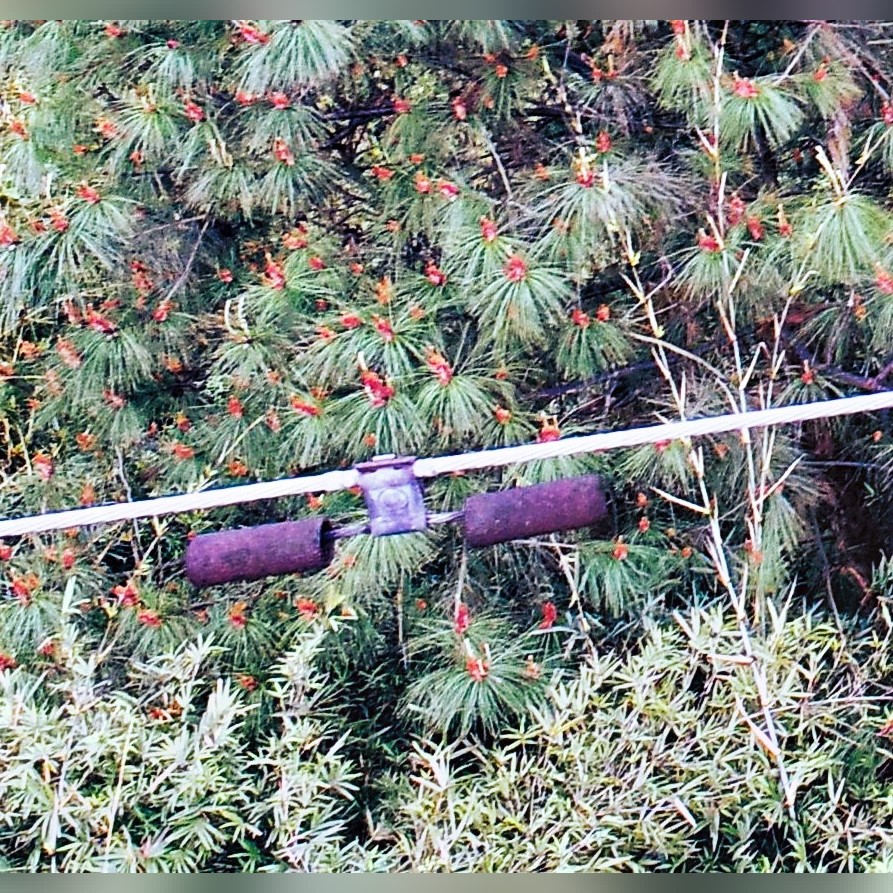Shockproof hammer: (173, 434, 622, 595)
